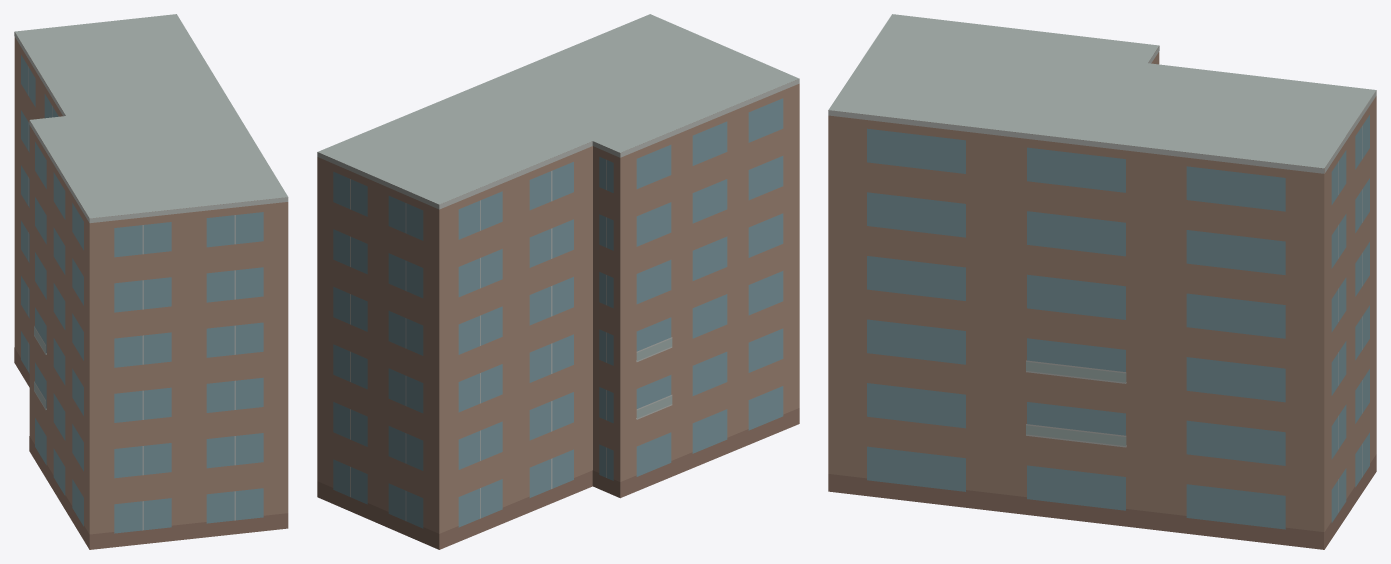
Rendered from survey-upis-33035240.glb.
3 views of the same model, side by side, from view 1: azimuth 30°, elevation 25°; view 2: azimuth 150°, elevation 25°; view 3: azimuth 270°, elevation 25° (orthographic). The views are drawn at different scales.
Parts seen in each view (by area): view 1: survey-upis-33035240.tmp; view 2: survey-upis-33035240.tmp; view 3: survey-upis-33035240.tmp.
Part boxes in pixels (box(x1,y1,x2,y2)): survey-upis-33035240.tmp: box(14, 14, 288, 549); survey-upis-33035240.tmp: box(317, 14, 799, 549); survey-upis-33035240.tmp: box(828, 14, 1376, 549).
Bounding box in the file's own units: 14.86 × 17.1 × 22.28.
